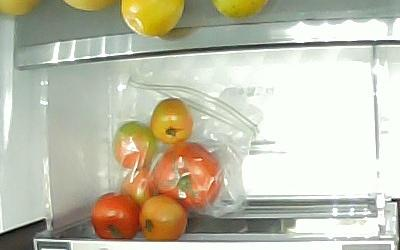tomato: (89, 191, 140, 239), (137, 193, 186, 239), (149, 96, 193, 144)
tomato_vinyl: (151, 140, 223, 211), (111, 120, 157, 169), (118, 167, 162, 205)
